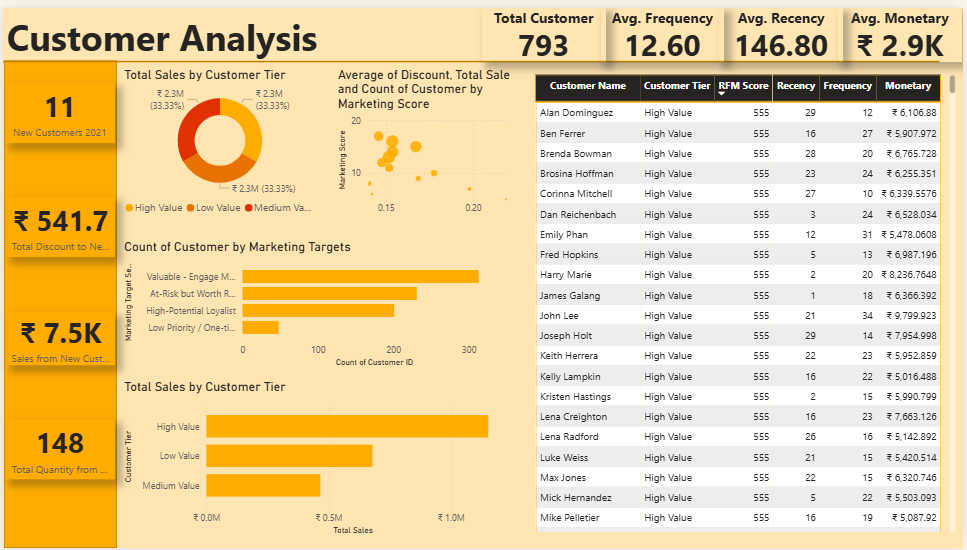

This screenshot's page, from the dashboard's own definition file:
{"tool":"powerbi","page":{"name":"Customer Analysis","canvas":[1280,720],"ordinal":1},"visuals":[{"type":"shape","box":[1.4,70,150,650],"z":0},{"type":"card","title":"Total Customer","fields":{"Values":["Customer Looker.Customer ID"]},"box":[638.9,0,165.6,72.2],"z":1000,"group":"g1"},{"type":"card","title":"Total Customer","fields":{"Values":["MeasureTable.New Customers 2021"]},"box":[3.6,100,145.7,80],"z":1000},{"type":"card","title":"Avg. Monetary","fields":{"Values":["Customer Looker.Monetary"]},"box":[1114.5,0,165,72],"z":2000,"group":"g1"},{"type":"card","fields":{"Values":["MeasureTable.Sales from New Customers 2021"]},"box":[4.3,404.8,144.3,71.4],"z":2000},{"type":"card","title":"Avg. Frequency","fields":{"Values":["Customer Looker.Frequency"]},"box":[797.8,0,165,72],"z":3000,"group":"g1"},{"type":"donutChart","fields":{"Category":["Customer Looker.Customer Tier"],"Y":["MeasureTable.Total Net Sales"]},"box":[157.1,78.6,265.5,207.1],"z":3000},{"type":"tableEx","fields":{"Values":["Customer Looker.Customer Name","Customer Looker.Customer Tier","Customer Looker.RFM Score","Customer Looker.Recency","Customer Looker.Frequency","Customer Looker.Monetary"]},"box":[697.6,78.6,582.1,629.8],"z":4000},{"type":"card","title":"Avg. Recency","fields":{"Values":["Customer Looker.Recency"]},"box":[956.1,0,165,72],"z":5000,"group":"g1"},{"type":"card","fields":{"Values":["MeasureTable.Total Quantity from New Customers 2021"]},"box":[3.6,548.6,145.7,80],"z":5000},{"type":"clusteredBarChart","title":"Total Sales by Customer Tier","fields":{"Category":["Customer Looker.Customer Tier"],"Y":["Orders.Sales Amount"]},"box":[157.1,495.7,530,212.9],"z":6000},{"type":"card","fields":{"Values":["MeasureTable.Total Discount to New Customers 2021"]},"box":[4.3,252.4,144.3,80],"z":7000},{"type":"clusteredBarChart","title":"Count of Customer by Marketing Targets","fields":{"Category":["Customer Looker.Marketing Target Segment"],"Y":["Customer Looker.Customer ID"]},"box":[157.1,308.3,530,175],"z":8000},{"type":"scatterChart","title":"Average of Discount, Total Sale and Count of Customer by Marketing Score","fields":{"X":["Orders.Discount"],"Y":["Customer Looker.Marketing Score"],"Size":["Orders.Sales Amount"]},"box":[441.7,78.6,248.8,207.1],"z":9000},{"type":"shape","box":[0,65.7,1248.6,12.9],"z":11000},{"type":"textbox","box":[0,0,577.1,75.7],"z":12000},{"type":"group","id":"g1","title":"Group 1","box":[638.9,0,641.1,72.2],"z":13000}]}

Visuals, with their boxes in screenshot pixels (x1, y1, x2, y2), scaled from the page's 1280x720 canvas onto the 967x550 screenshot:
shape: (x1=1, y1=53, x2=114, y2=549)
"Total Customer" card: (x1=483, y1=0, x2=608, y2=55)
"Total Customer" card: (x1=3, y1=76, x2=113, y2=138)
"Avg. Monetary" card: (x1=842, y1=0, x2=966, y2=55)
card - MeasureTable.Sales from New Customers 2021: (x1=3, y1=309, x2=112, y2=364)
"Avg. Frequency" card: (x1=603, y1=0, x2=727, y2=55)
donutChart - Customer Looker.Customer Tier x MeasureTable.Total Net Sales: (x1=119, y1=60, x2=319, y2=218)
tableEx - Customer Looker.Customer Name x Customer Looker.Customer Tier: (x1=527, y1=60, x2=966, y2=541)
"Avg. Recency" card: (x1=722, y1=0, x2=847, y2=55)
card - MeasureTable.Total Quantity from New Customers 2021: (x1=3, y1=419, x2=113, y2=480)
"Total Sales by Customer Tier" clusteredBarChart: (x1=119, y1=379, x2=519, y2=541)
card - MeasureTable.Total Discount to New Customers 2021: (x1=3, y1=193, x2=112, y2=254)
"Count of Customer by Marketing Targets" clusteredBarChart: (x1=119, y1=236, x2=519, y2=369)
"Average of Discount, Total Sale and Count of Customer by Marketing Score" scatterChart: (x1=334, y1=60, x2=522, y2=218)
shape: (x1=0, y1=50, x2=943, y2=60)
textbox: (x1=0, y1=0, x2=436, y2=58)
"Group 1" group: (x1=483, y1=0, x2=966, y2=55)
